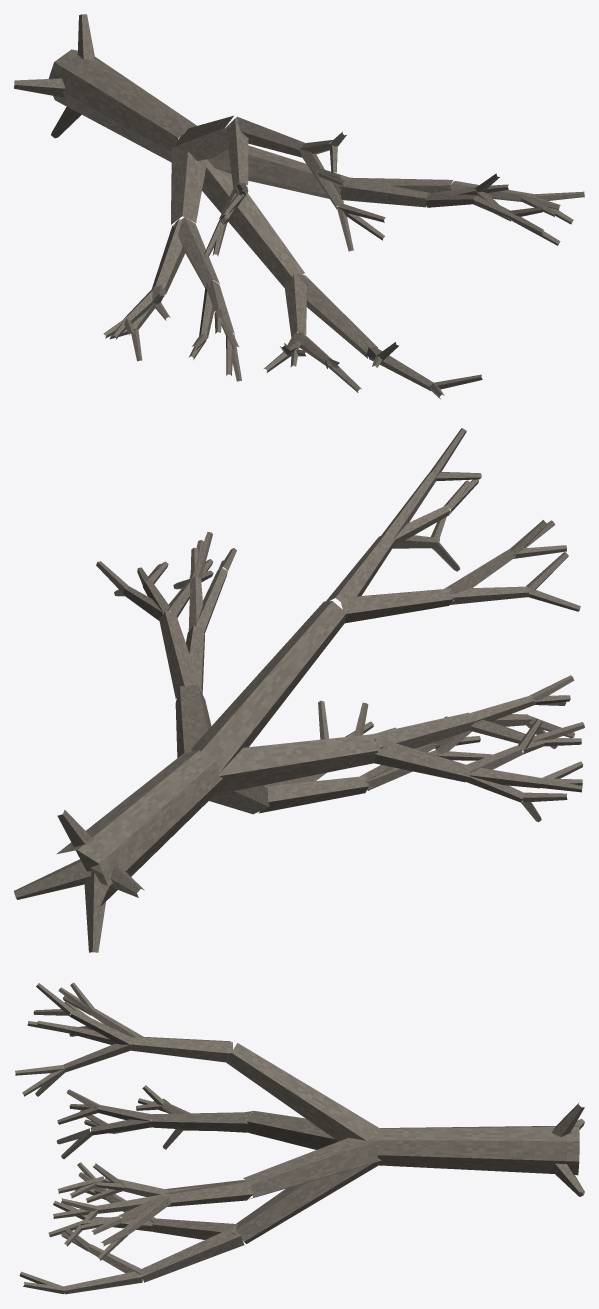
The model's file is maple_tree_dead.glb.
3 renders of one model, top to bottom at view 1: azimuth 30°, elevation 25°; view 2: azimuth 150°, elevation 25°; view 3: azimuth 270°, elevation 25°, orthographic. The views are drawn at different scales.
Parts seen in each view (by area): view 1: bark; view 2: bark; view 3: bark.
Part boxes in pixels (bbox=[...]): bark: bbox=[14, 14, 584, 399]; bark: bbox=[14, 428, 584, 952]; bark: bbox=[15, 982, 584, 1294].
Size of the model in its own units: 6.69 by 4.22 by 8.21.
1 material, 1 textured.
